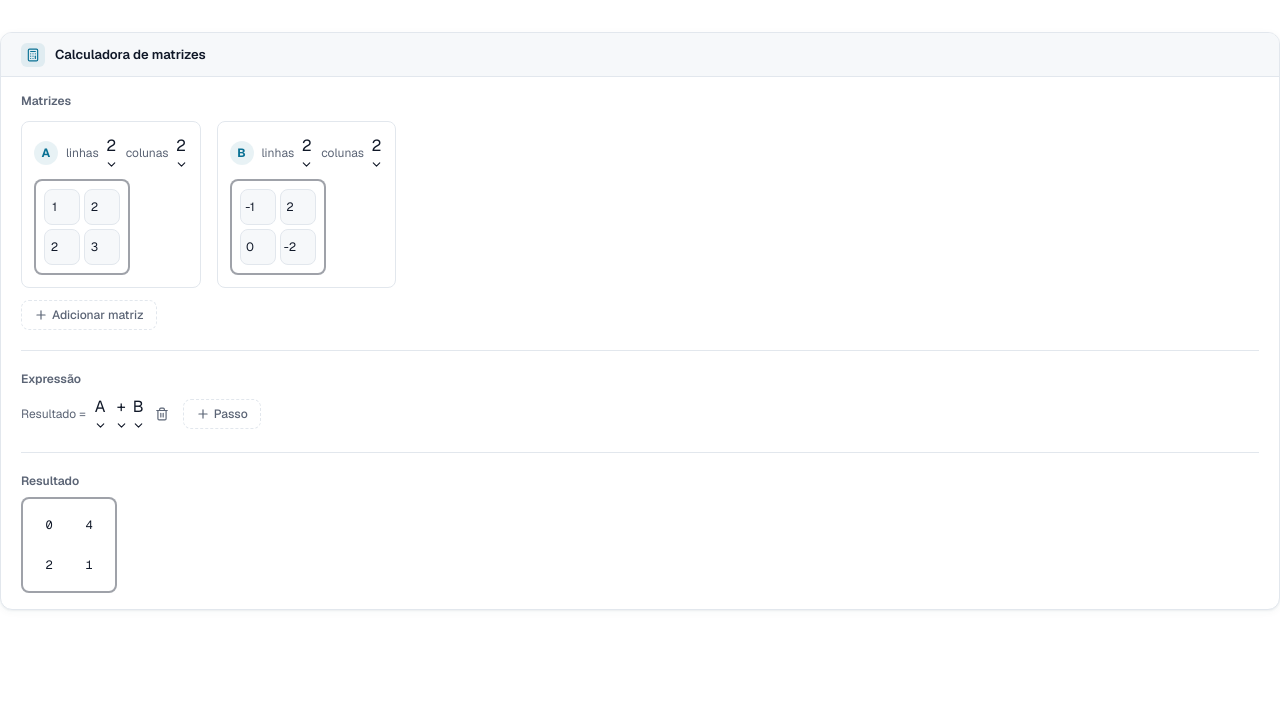
Test case: MatrixCalculator › adding a matrix introduces the next letter
Click the button "Adicionar matriz": coordinates (89, 315) [21,300,157,330]
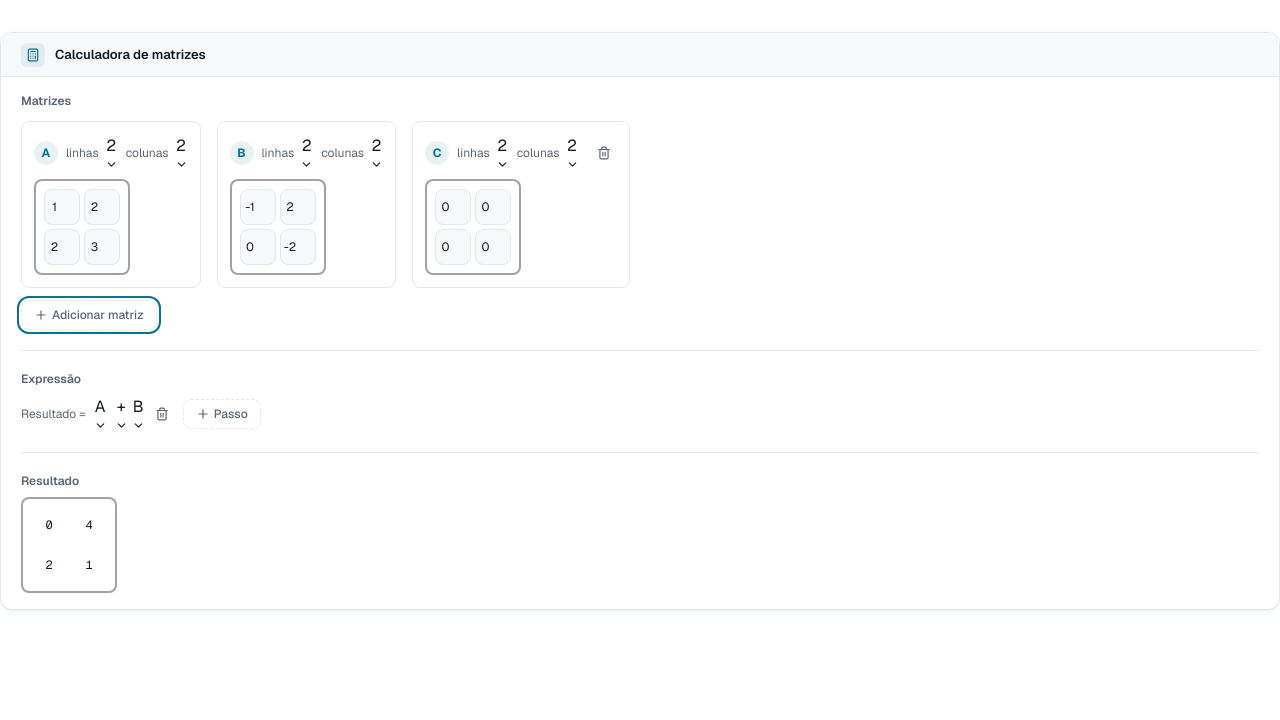
expect the text "C" is shown: met, box [425,140,449,164]
